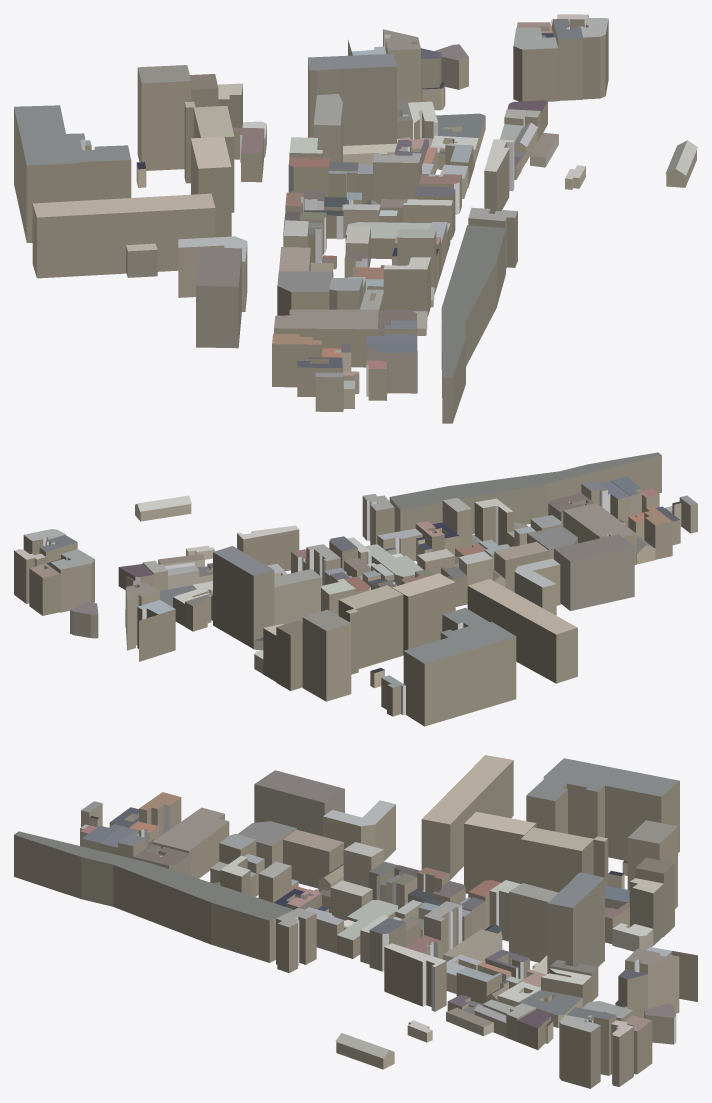
3 renders of one model, top to bottom at view 1: azimuth 30°, elevation 25°; view 2: azimuth 150°, elevation 25°; view 3: azimuth 270°, elevation 25°, orthographic. The views are drawn at different scales.
Visible parts, largest first — view 1: tuile; view 2: tuile; view 3: tuile.
Part boxes in pixels (box(x1,y1,x2,y2)): tuile: box(14, 14, 697, 423); tuile: box(14, 452, 697, 726); tuile: box(14, 755, 697, 1088).
Size of the model in its own units: 290 by 41.92 by 299.
